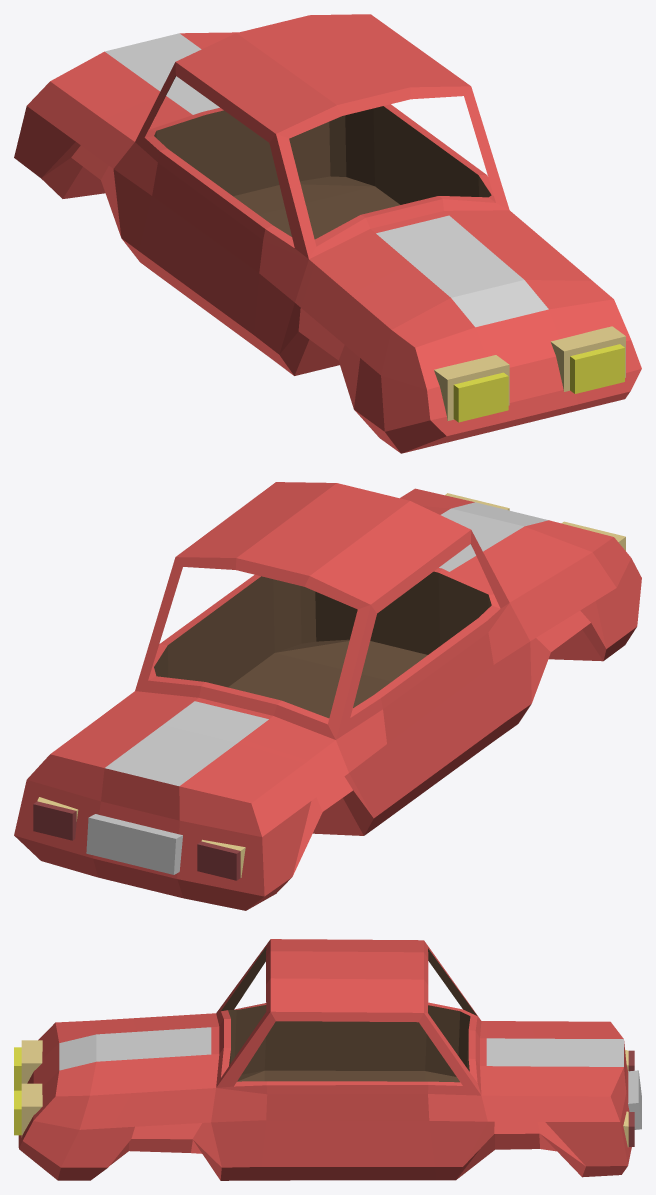
File: CarMain02.fbx
3 renders of one model, top to bottom at view 1: azimuth 30°, elevation 25°; view 2: azimuth 150°, elevation 25°; view 3: azimuth 270°, elevation 25°, orthographic. The views are drawn at different scales.
Visible parts, largest first — view 1: Cube.008; view 2: Cube.008; view 3: Cube.008.
Boxes of the visible parts, x1,y1,x2,y2 form: Cube.008: (14,14,641,453); Cube.008: (14,482,641,910); Cube.008: (14,939,641,1180).
Bounding box in the file's own units: 230 × 199 × 649.
